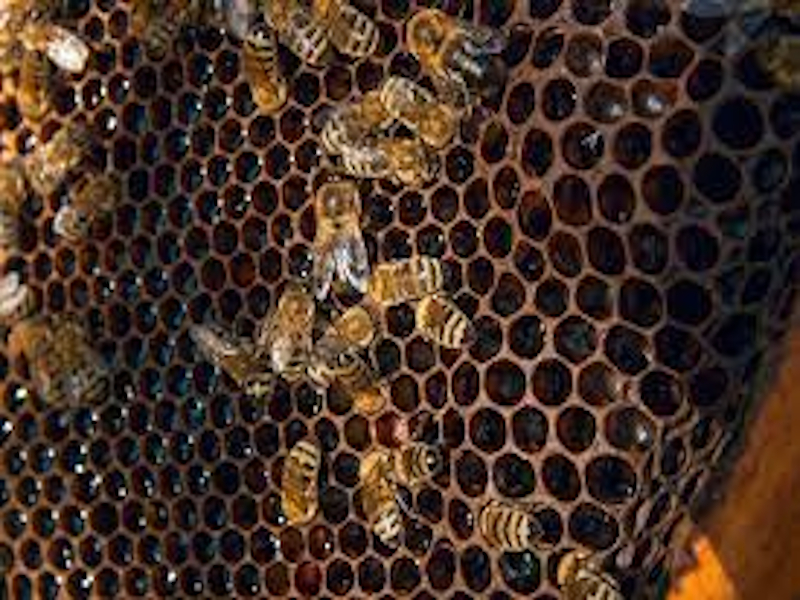abeja: (302, 161, 371, 290), (271, 421, 337, 531), (470, 489, 552, 560)
